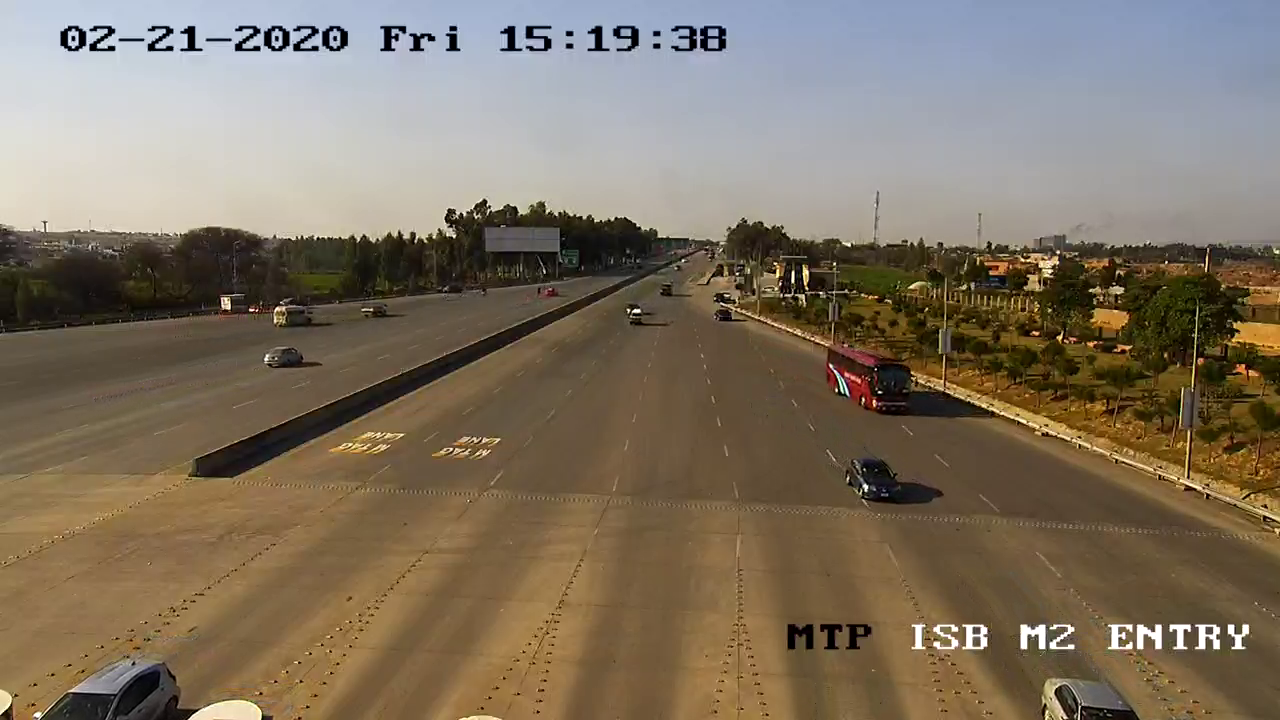f1: (841, 449, 908, 515)
f4: (821, 341, 921, 423)
